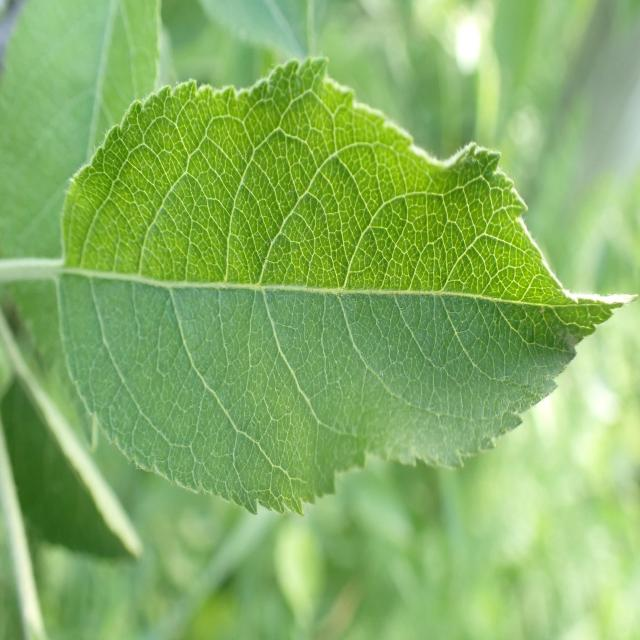healthy: (58, 54, 638, 515), (0, 0, 160, 269)
